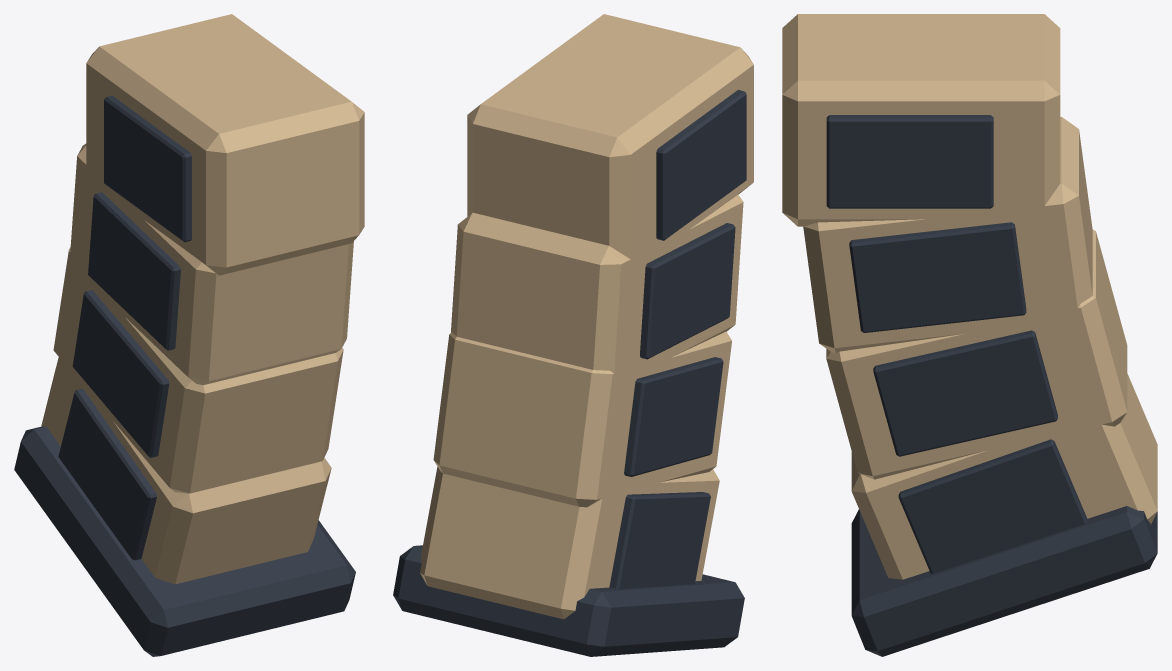
File: Module_ExtendedMag_v001.fbx
3 views of the same model, side by side, from view 1: azimuth 30°, elevation 25°; view 2: azimuth 150°, elevation 25°; view 3: azimuth 270°, elevation 25° (orthographic). The views are drawn at different scales.
Visible parts, largest first — view 1: Module_ExtendedMag__MAGAZINE_MESH; view 2: Module_ExtendedMag__MAGAZINE_MESH; view 3: Module_ExtendedMag__MAGAZINE_MESH.
Boxes of the visible parts, x1,y1,x2,y2 form: Module_ExtendedMag__MAGAZINE_MESH: [14, 14, 364, 656]; Module_ExtendedMag__MAGAZINE_MESH: [393, 14, 753, 656]; Module_ExtendedMag__MAGAZINE_MESH: [782, 14, 1157, 656].
Bounding box in the file's own units: 0.22 × 0.5595 × 0.3377.
